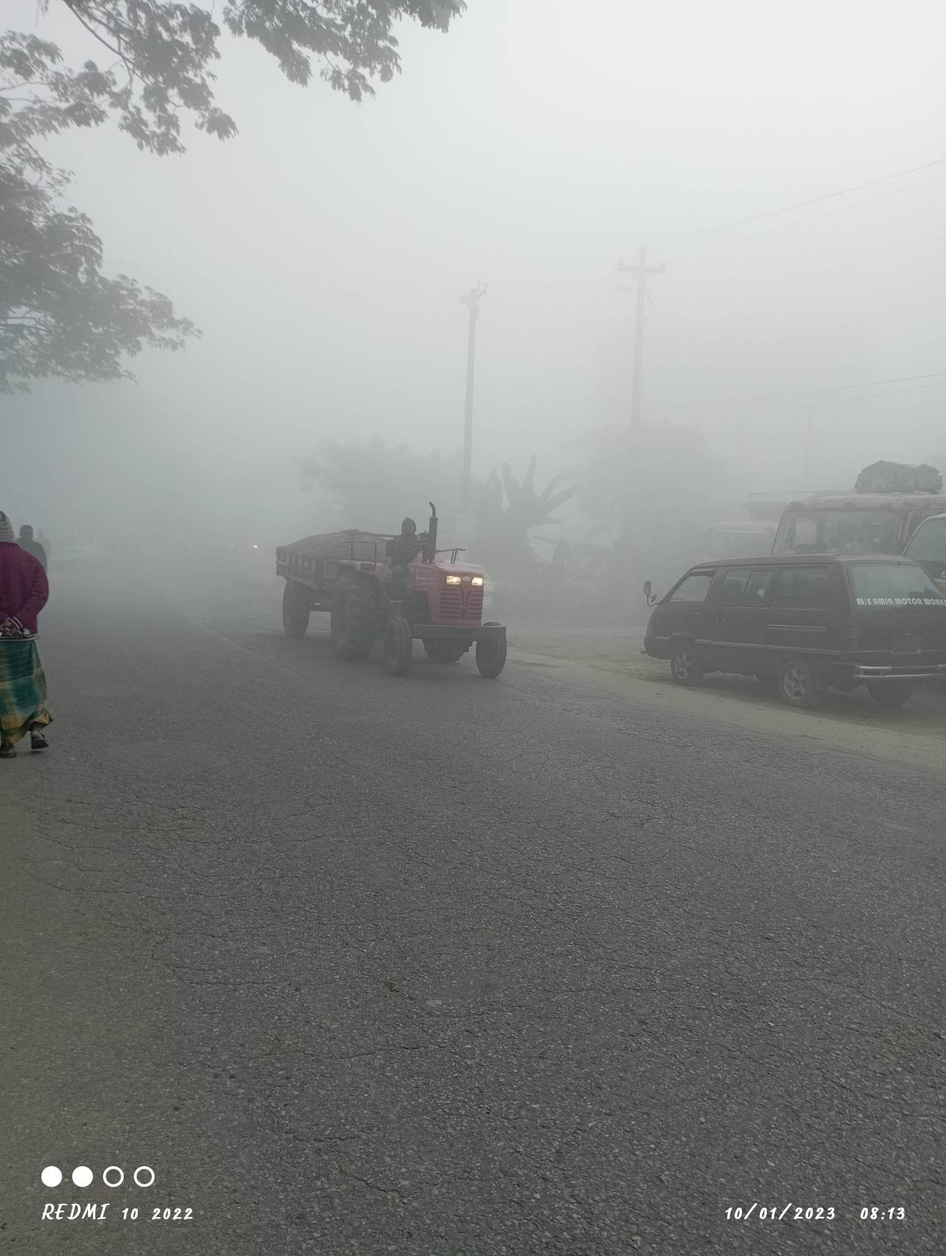Car: (636, 542, 946, 717)
Truck: (255, 491, 535, 701)
